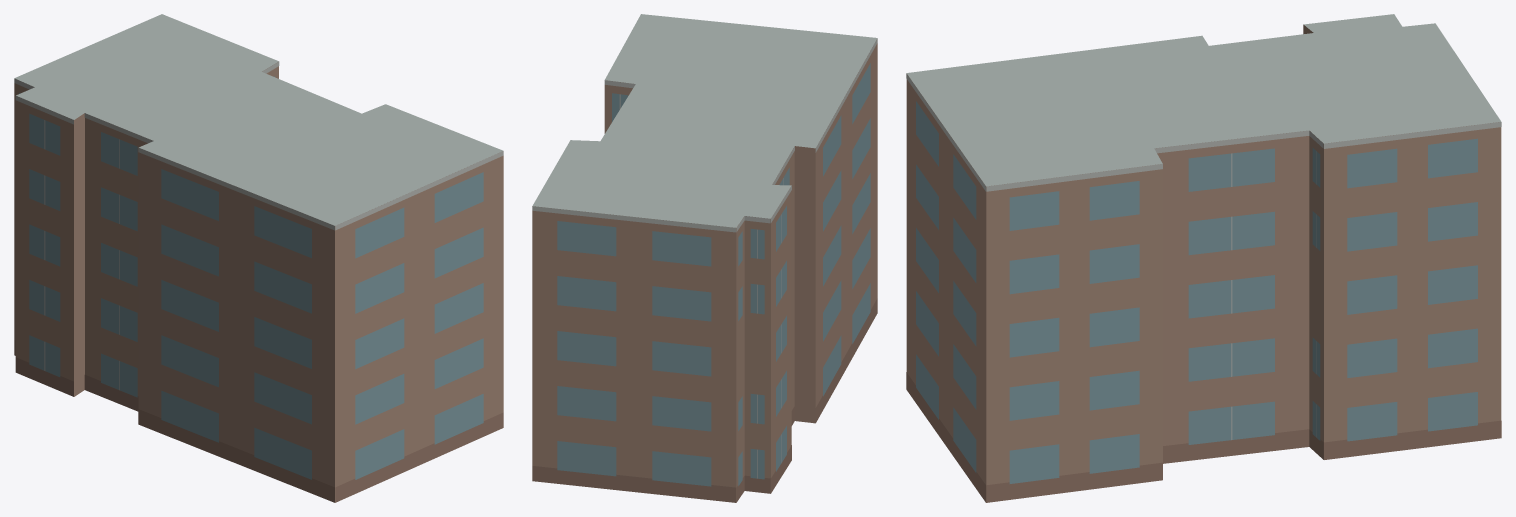
The model's file is survey-upis-32634884.glb.
3 views of the same model, side by side, from view 1: azimuth 30°, elevation 25°; view 2: azimuth 150°, elevation 25°; view 3: azimuth 270°, elevation 25° (orthographic). The views are drawn at different scales.
Visible parts, largest first — view 1: survey-upis-32634884.tmp; view 2: survey-upis-32634884.tmp; view 3: survey-upis-32634884.tmp.
Part boxes in pixels (bbox=[...]): survey-upis-32634884.tmp: bbox=[14, 14, 503, 502]; survey-upis-32634884.tmp: bbox=[532, 14, 877, 502]; survey-upis-32634884.tmp: bbox=[906, 14, 1501, 502].
Size of the model in its own units: 16.9 by 14.45 by 24.64.
